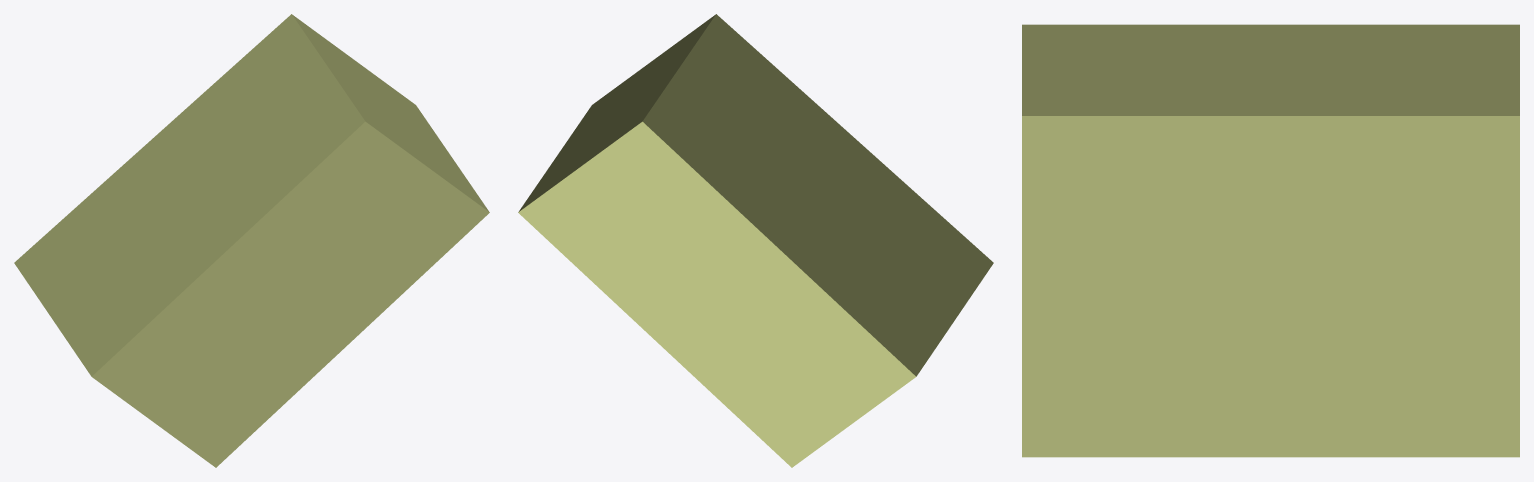
3 views of the same model, side by side, from view 1: azimuth 30°, elevation 25°; view 2: azimuth 150°, elevation 25°; view 3: azimuth 270°, elevation 25° (orthographic). The views are drawn at different scales.
Parts seen in each view (by area): view 1: 0_3_0_1_1_1_0_3_0_3_1; view 2: 0_3_0_1_1_1_0_3_0_3_1; view 3: 0_3_0_1_1_1_0_3_0_3_1.
Boxes of the visible parts, <box> form: 0_3_0_1_1_1_0_3_0_3_1: <box>14,14,489,467</box>; 0_3_0_1_1_1_0_3_0_3_1: <box>518,14,993,467</box>; 0_3_0_1_1_1_0_3_0_3_1: <box>1022,24,1519,457</box>.
Bounding box in the file's own units: 9.78 × 8.35 × 6.
